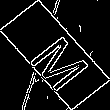M_NE: (19, 21, 91, 89)
